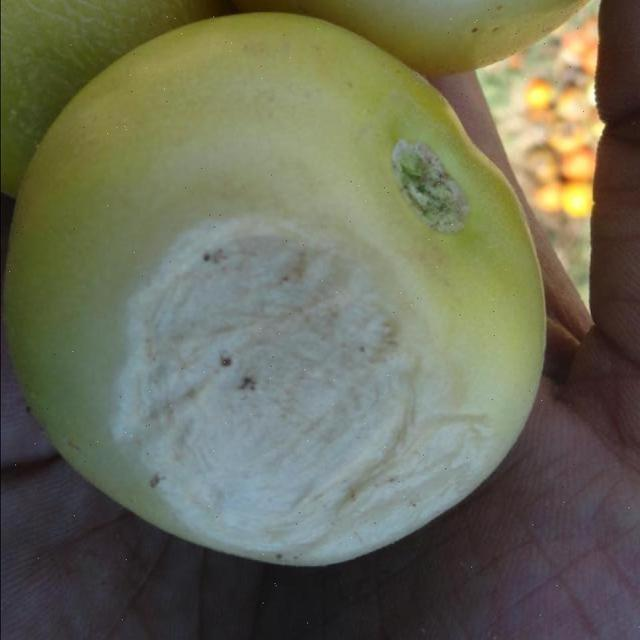Sunscald Fruit: (82, 142, 330, 383)
